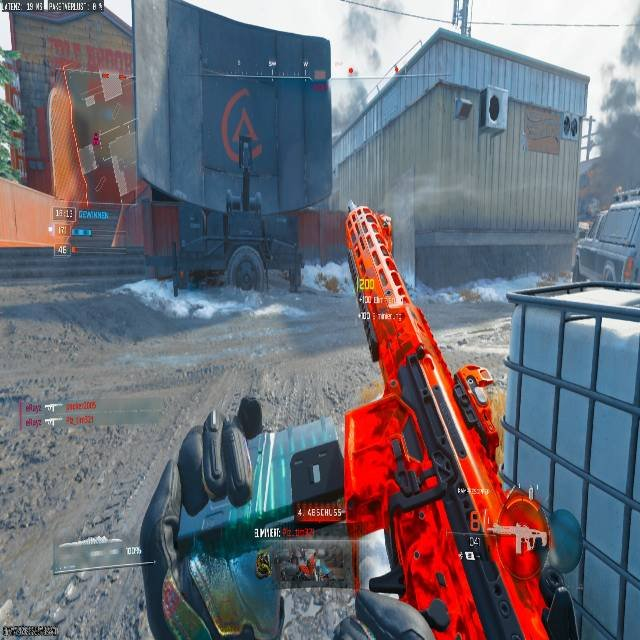head: (233, 394, 263, 437)
